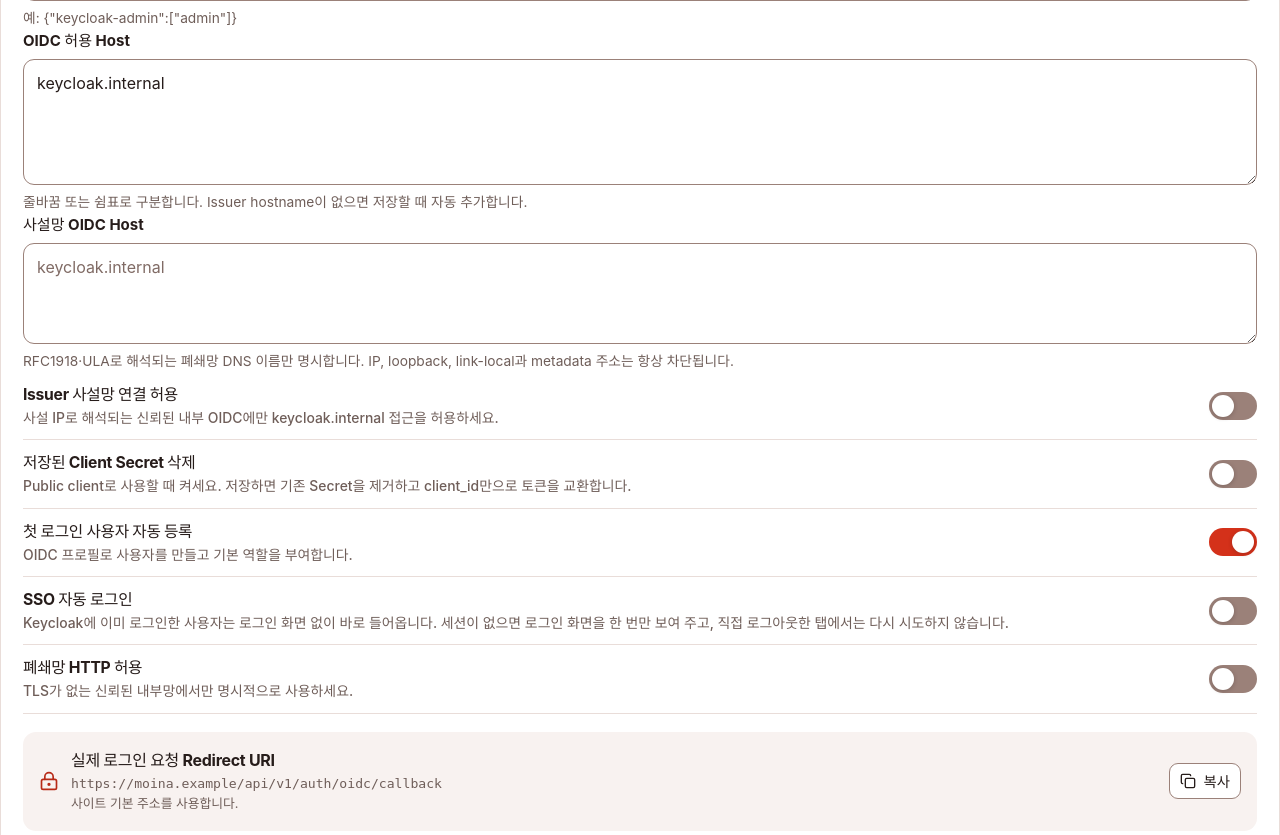
Test: 관리자 공급자 설정 저장 계약 › Issuer authority를 명시적으로 사설망 허용 목록에 추가하고 제거한다
(page scrolled)
Click the switch labelled "Issuer 사설망 연결 허용".
click(1233, 406)  # box [1209,392,1257,420]
(page scrolled)
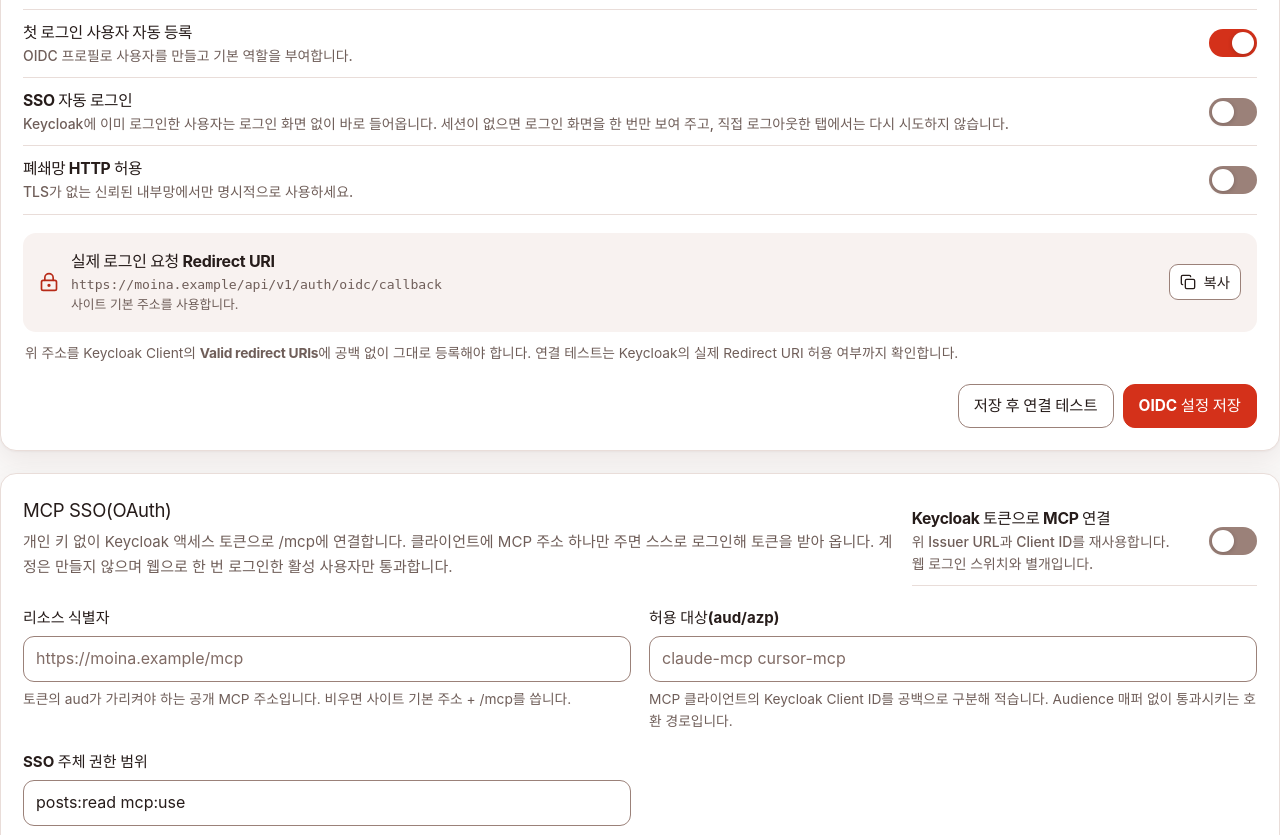
Click the button "OIDC 설정 저장".
click(1190, 406)  # box [1123,384,1257,428]
(page scrolled)
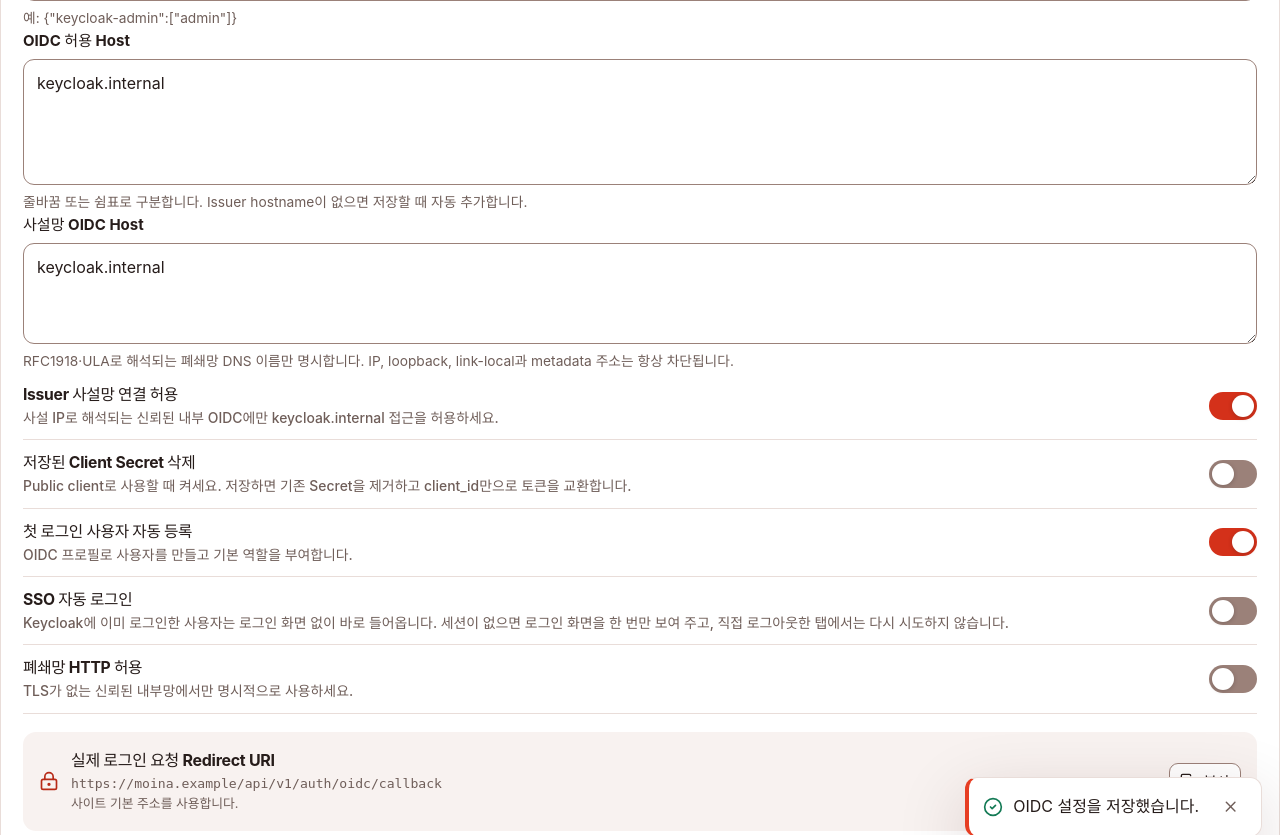
Click the switch labelled "Issuer 사설망 연결 허용".
click(1233, 406)  # box [1209,392,1257,420]
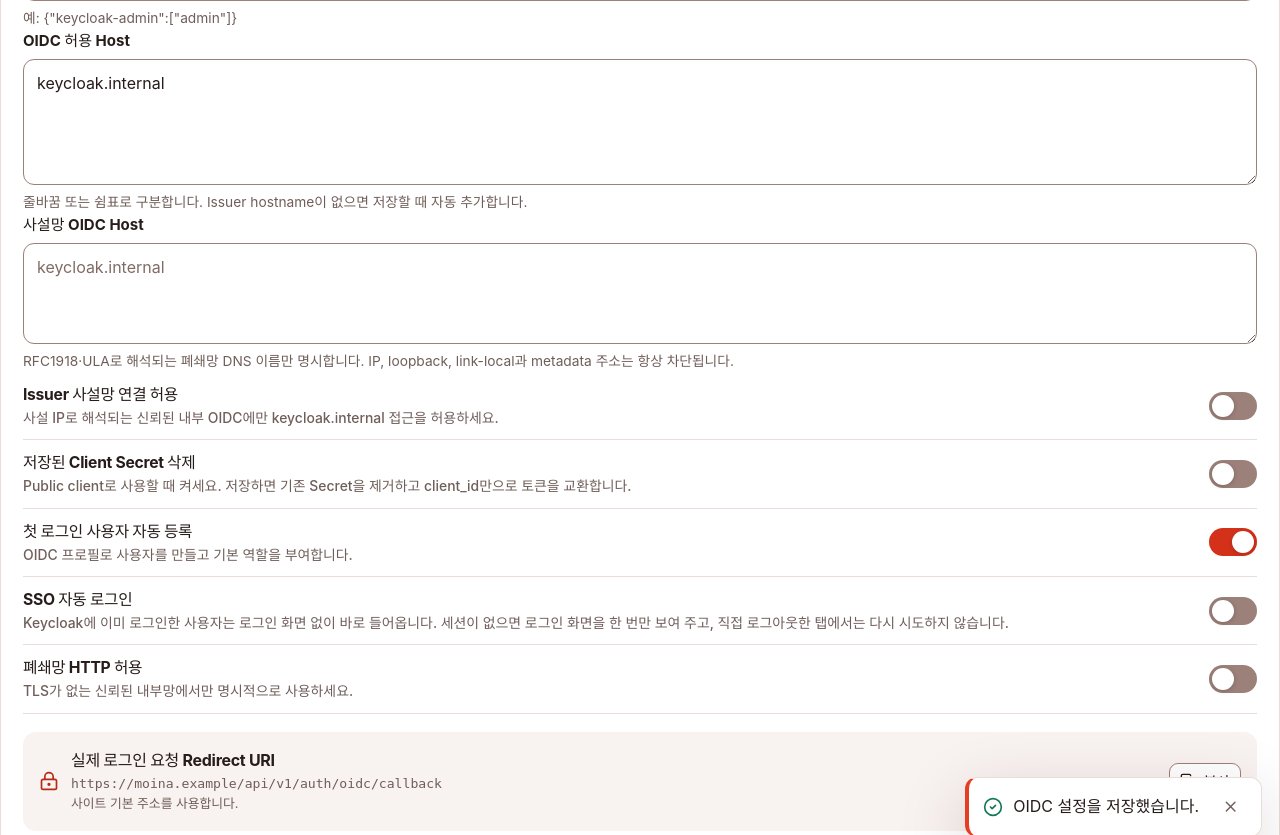
Expected: the switch labelled "Issuer 사설망 연결 허용" is not checked, [1209,392,1257,420]
Expected: the text box labelled "사설망 OIDC Host" is empty, [23,243,1257,344]
